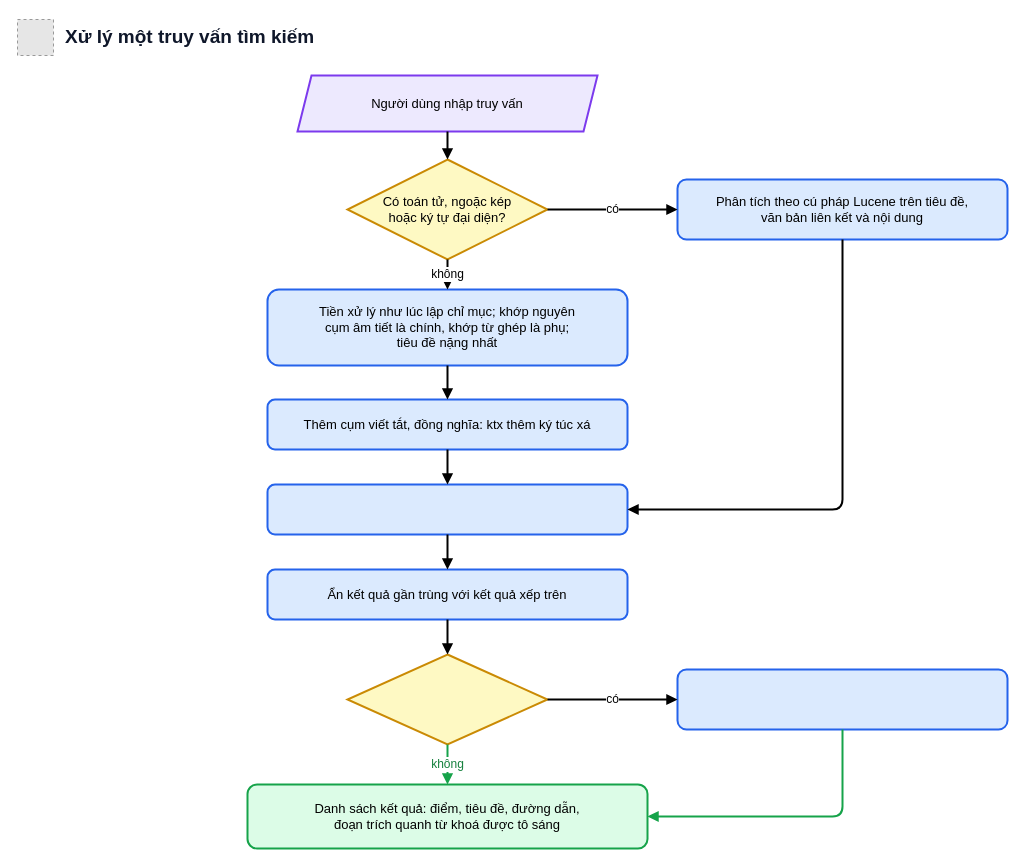
The diagram is 1026 pixels wide and 866 high, and some of its shapes have lost their labels. Grey dashed boxes stand in for pictures. The box of each missing label's shape, as (x1, y1, x2, y2) in pixels:
Gợi ý sửa chính tả theo ngữ cảnh: điểm chuẩm thành điểm chuẩn: (676, 668, 1008, 730)
Xếp hạng BM25, nhân thêm theo PageRank: (266, 483, 628, 535)
Ít kết quả?: (346, 653, 548, 745)
